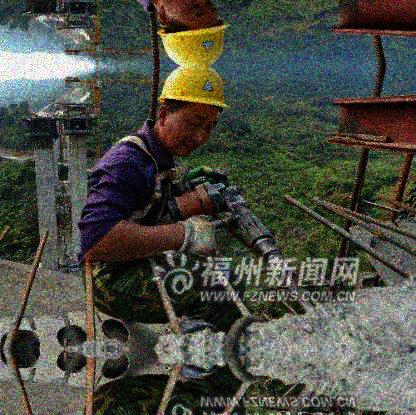helmet: (156, 67, 228, 158), (155, 1, 231, 65)
